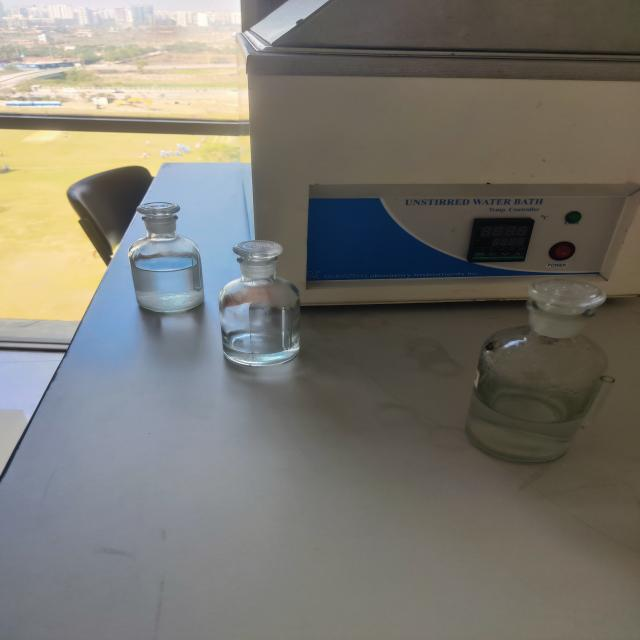Reagent_Bottle: (425, 272, 640, 476), (193, 220, 335, 381), (98, 189, 218, 338)
